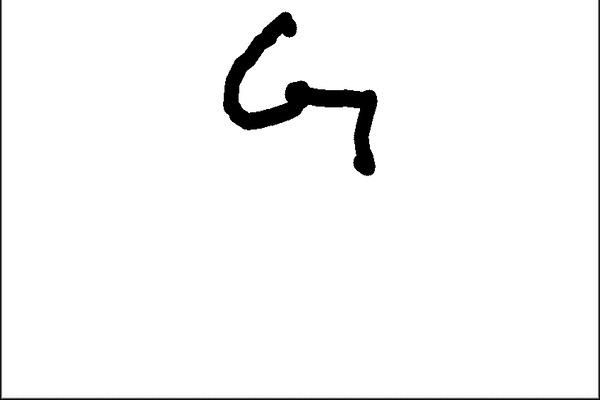G: (215, 8, 385, 182)
